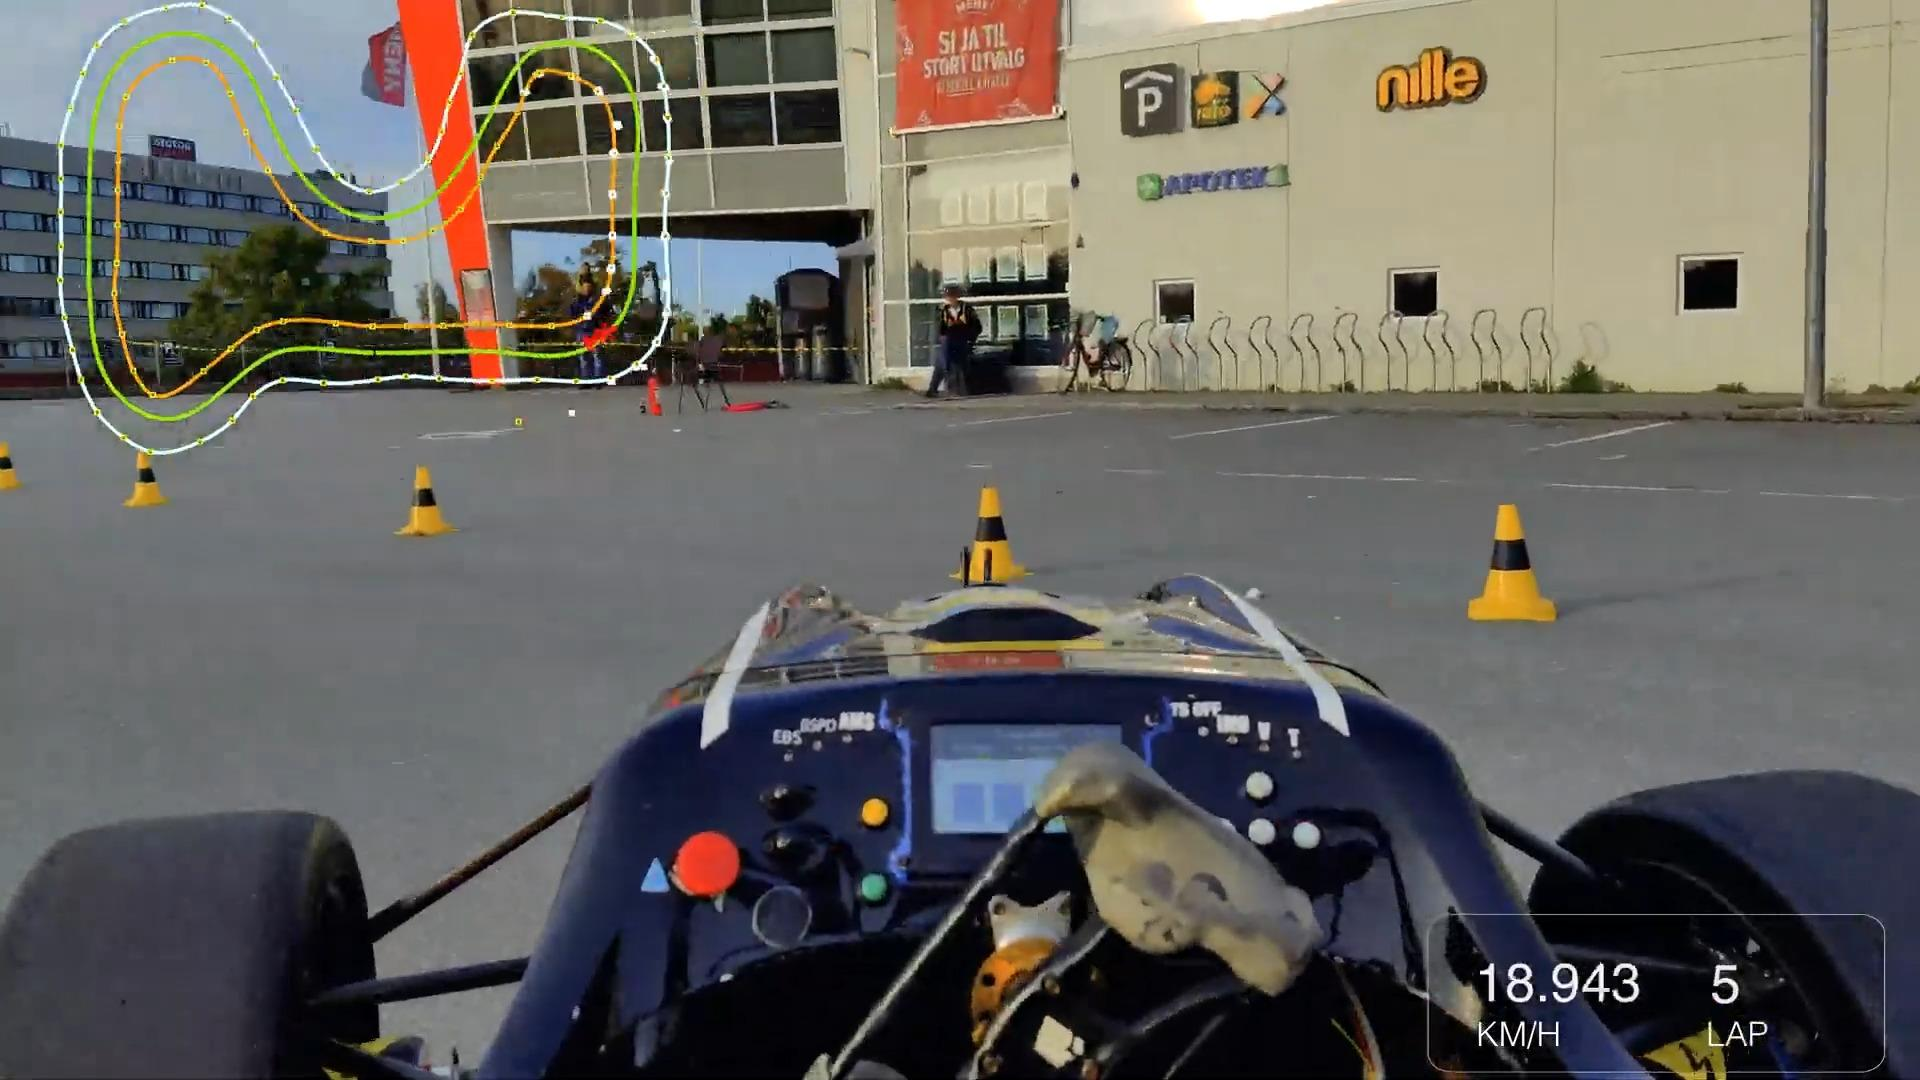yellow_cone: (1484, 514, 1551, 622), (963, 489, 1036, 579), (401, 460, 460, 545), (116, 436, 169, 502)
